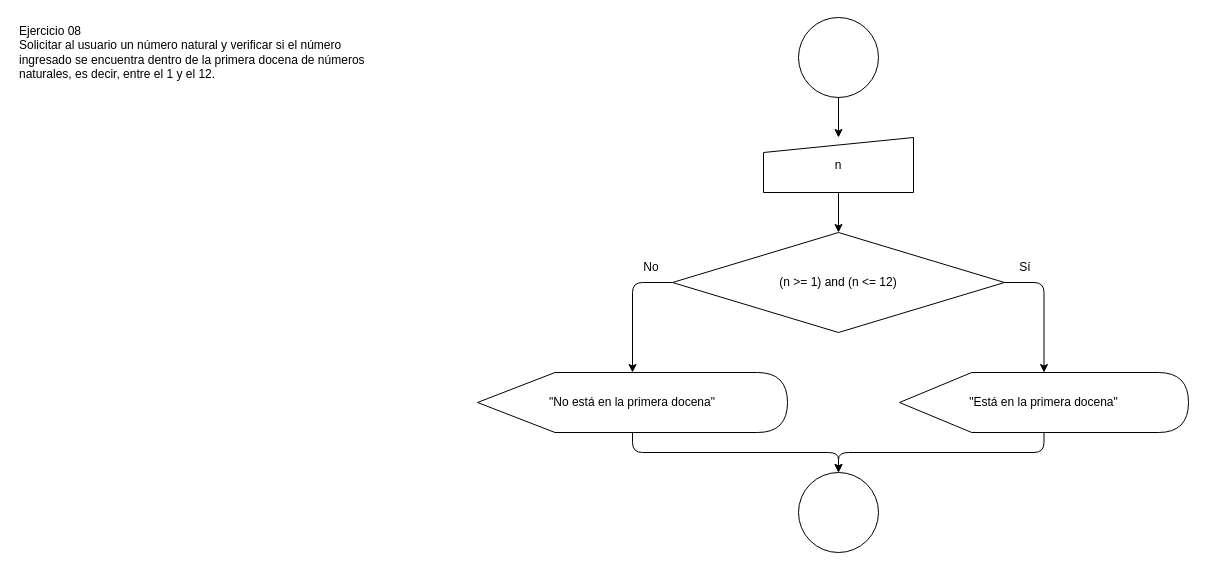
This 1206x570 diagram has some shape labels left out. The shapes that lost their labels are listed below. From the top down, each one's centre as x and y in pixels, then its label:
pixel 838 57: Inicio
pixel 838 512: Fin
